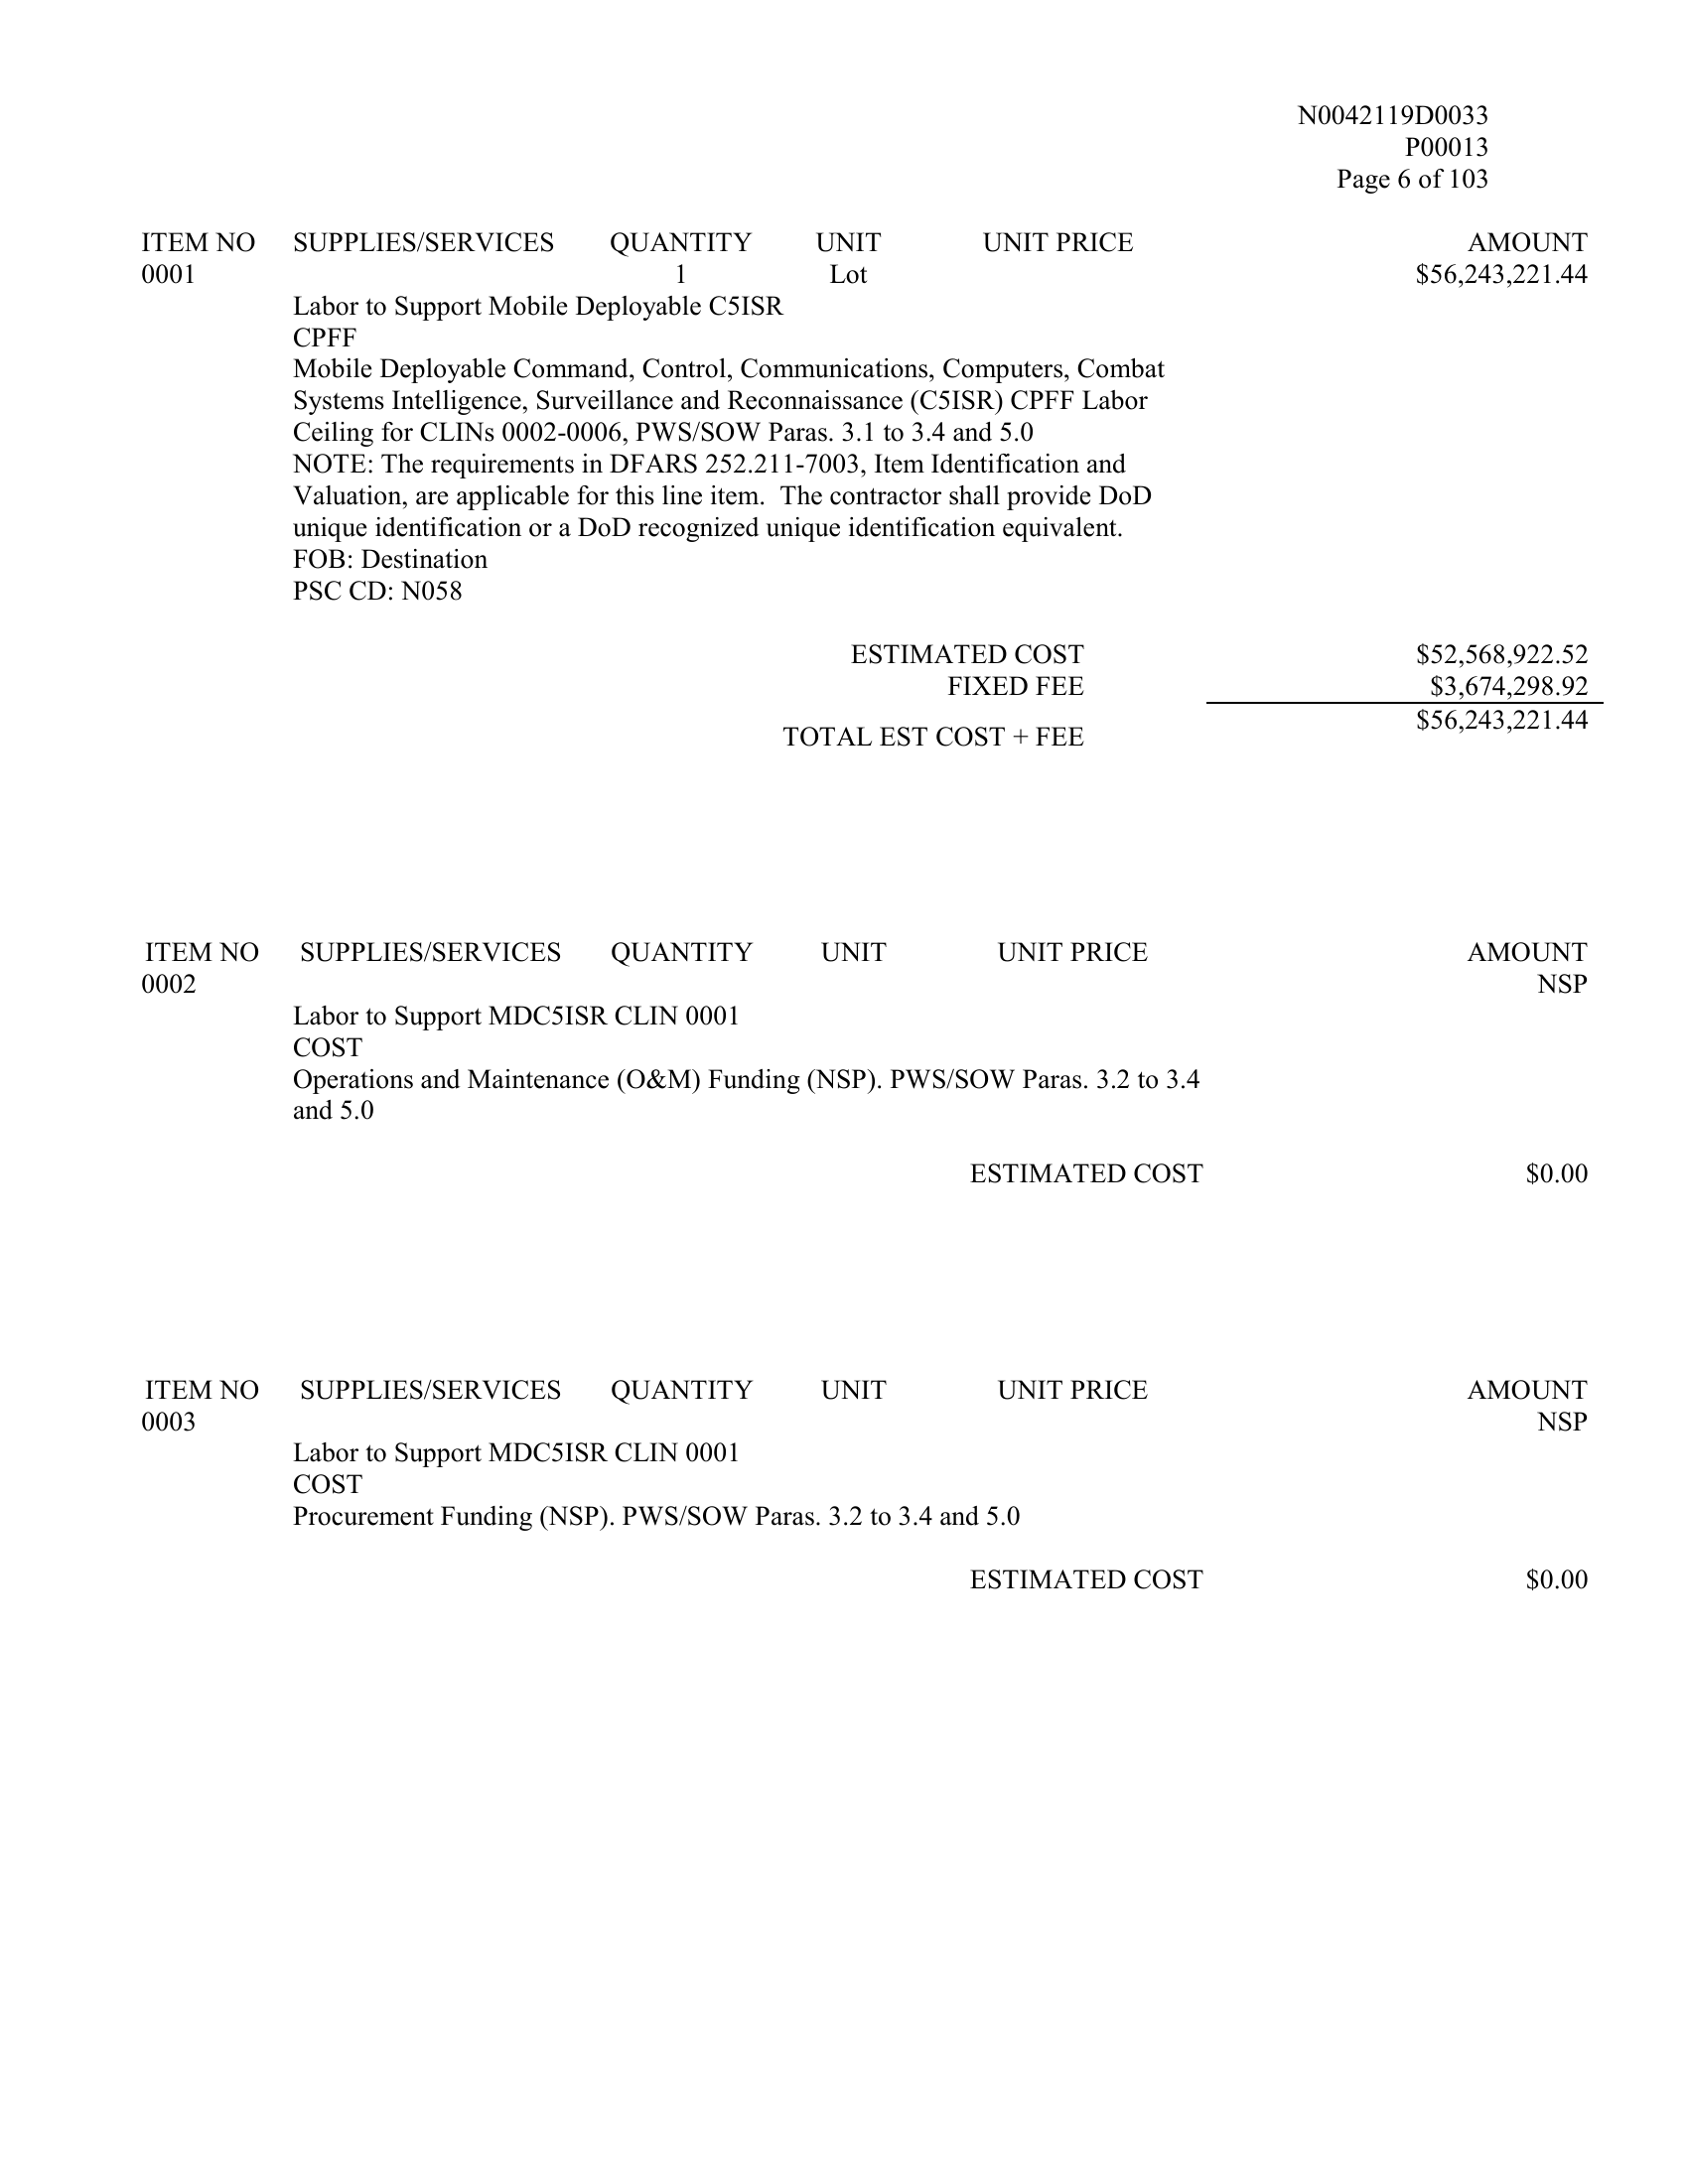table: (135, 227, 1606, 755), (137, 932, 1590, 1188), (138, 1369, 1592, 1599)
table column: (1192, 225, 1608, 755), (277, 225, 576, 755), (956, 225, 1192, 757), (576, 225, 784, 757), (784, 227, 956, 757), (1243, 932, 1590, 1188), (273, 931, 569, 1189), (954, 1369, 1284, 1601), (943, 931, 1241, 1188), (137, 227, 275, 755), (1284, 1370, 1594, 1601), (277, 1370, 583, 1601), (571, 931, 787, 1189), (583, 1370, 789, 1599), (140, 1370, 1592, 1402), (789, 931, 942, 1188), (789, 1369, 956, 1599), (137, 936, 271, 1186), (138, 1374, 278, 1603)
table column header: (138, 932, 1589, 970), (135, 227, 1601, 259)
table row: (135, 259, 1610, 615), (137, 970, 1594, 1129), (138, 1402, 1592, 1537)
